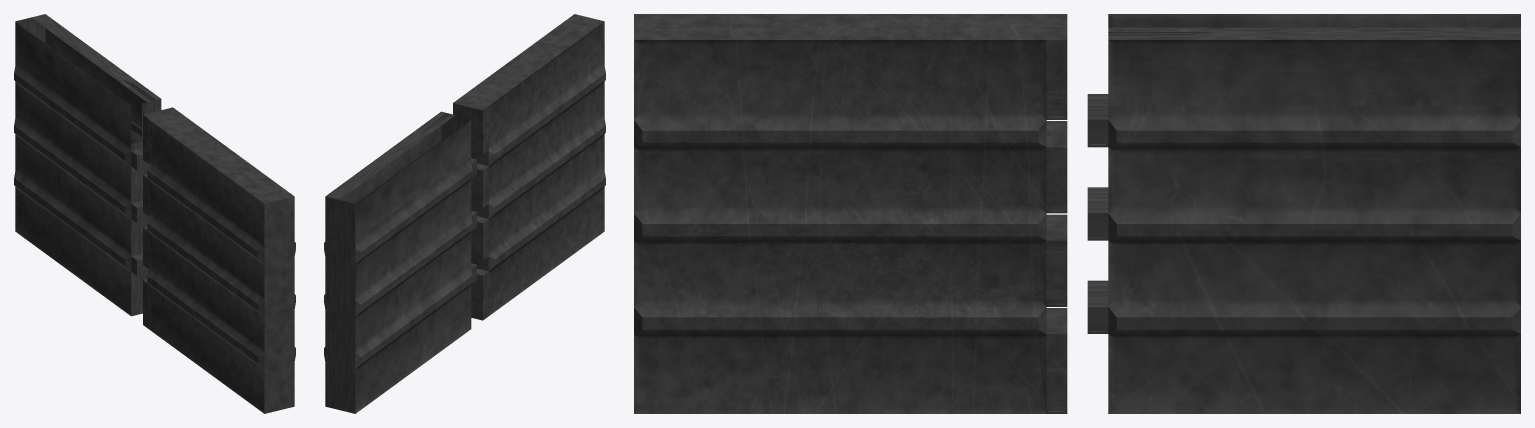
The model's file is gates.fbx.
3 views of the same model, side by side, from view 1: azimuth 30°, elevation 25°; view 2: azimuth 150°, elevation 25°; view 3: azimuth 270°, elevation 25° (orthographic). The views are drawn at different scales.
Visible parts, largest first — view 1: gate_L, bake; view 2: bake, gate_L; view 3: gate_L, bake.
Part boxes in pixels (<box>): gate_L: <box>143,107,295,413</box>; bake: <box>14,14,161,316</box>; bake: <box>324,111,476,413</box>; gate_L: <box>453,14,605,320</box>; gate_L: <box>634,14,1067,413</box>; bake: <box>1087,14,1520,413</box>.
Size of the model in its own units: 74.17 by 400 by 860.
1 material, 1 textured.
